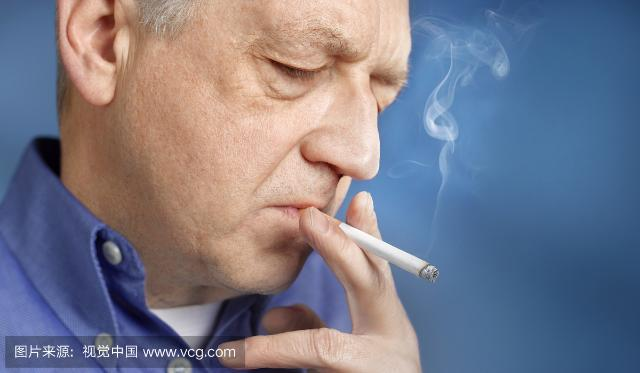Smoking: (301, 210, 444, 282)
